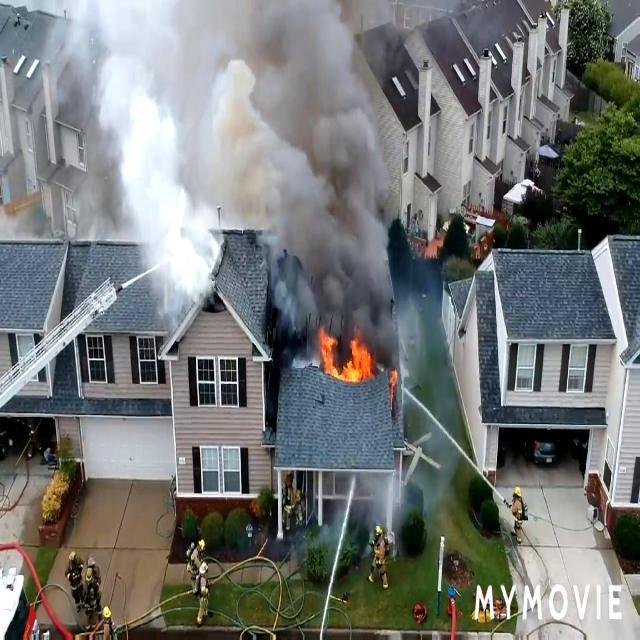Fire: (315, 322, 376, 387)
Smoke: (31, 0, 412, 302), (379, 255, 444, 395)
